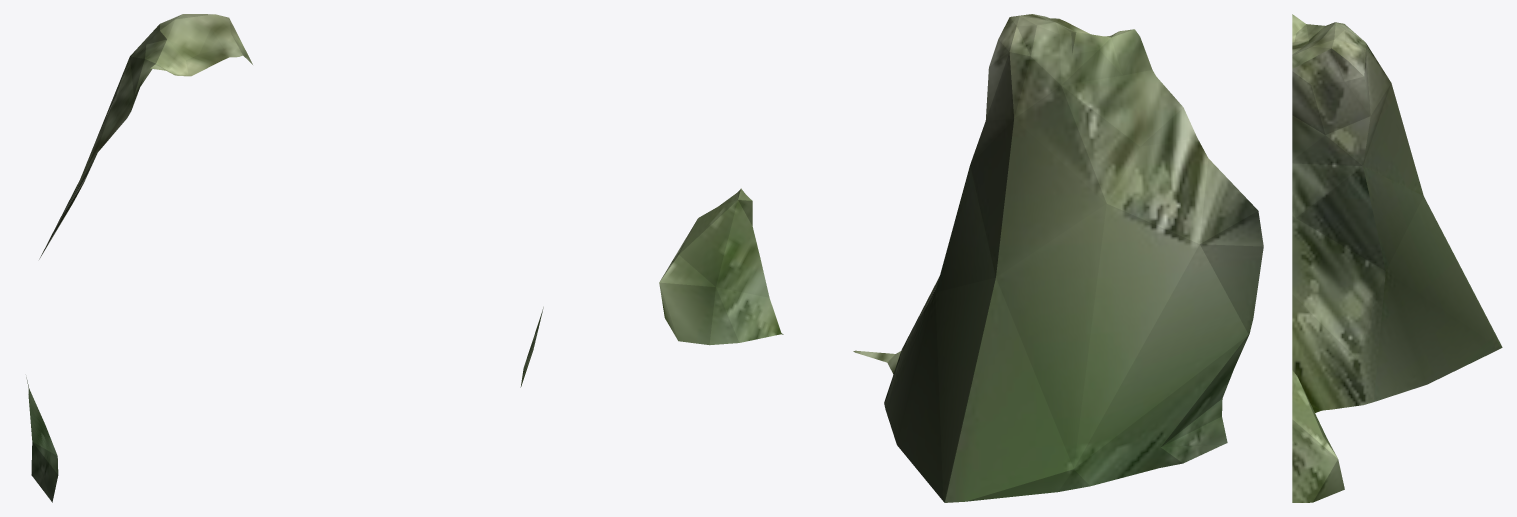
3 views of the same model, side by side, from view 1: azimuth 30°, elevation 25°; view 2: azimuth 150°, elevation 25°; view 3: azimuth 270°, elevation 25° (orthographic). The views are drawn at different scales.
Size of the model in its own units: 4.31 by 2.85 by 1.68.
1 material, 1 textured.
